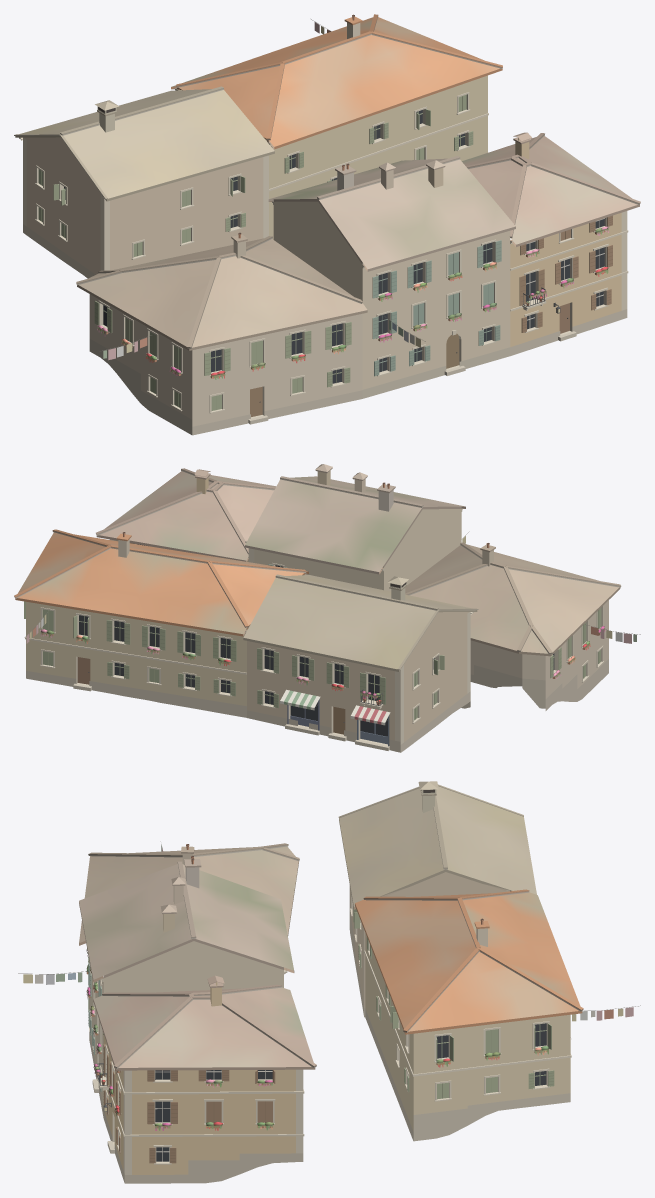
Rendered from SM_BM_BT_blk_36.glb.
The picture shows the model from 3 angles, top to bottom: view 1: azimuth 30°, elevation 25°; view 2: azimuth 150°, elevation 25°; view 3: azimuth 270°, elevation 25°; orthographic projection. The views are drawn at different scales.
Parts seen in each view (by area): view 1: SM_BM_BT_blk_36; view 2: SM_BM_BT_blk_36; view 3: SM_BM_BT_blk_36.
Boxes of the visible parts, x1,y1,x2,y2 form: SM_BM_BT_blk_36: (14,14,640,435); SM_BM_BT_blk_36: (14,464,640,752); SM_BM_BT_blk_36: (18,781,640,1183).
Size of the model in its own units: 42.87 by 15.91 by 42.69.
